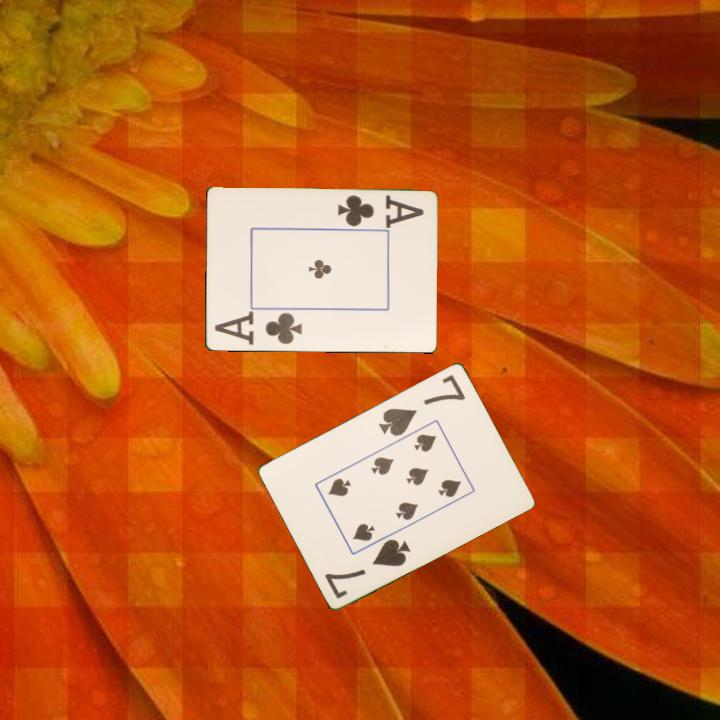7s: (375, 370, 469, 439), (321, 535, 414, 601)
Ac: (211, 309, 305, 349), (334, 192, 426, 230)
